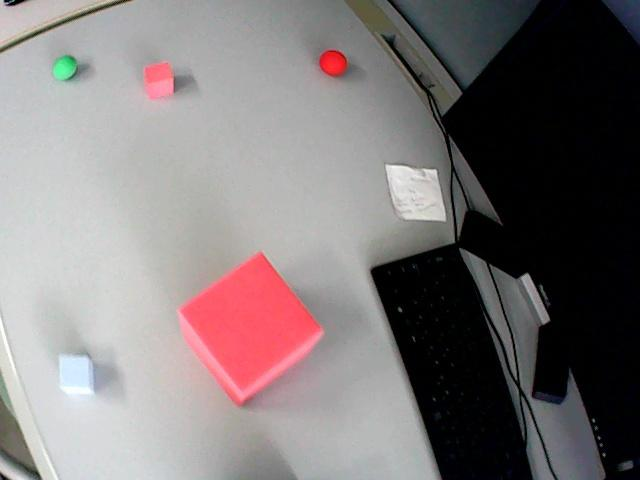blue_block: (59, 354, 94, 394)
red_block: (178, 253, 322, 404), (144, 62, 173, 98)
